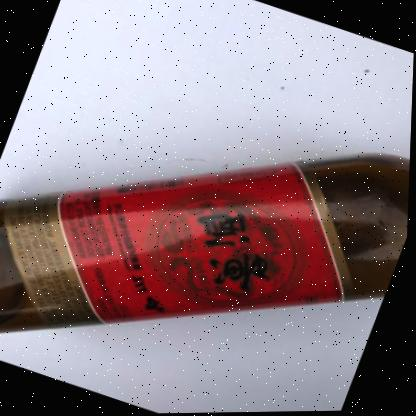Glass: (0, 157, 411, 333)
